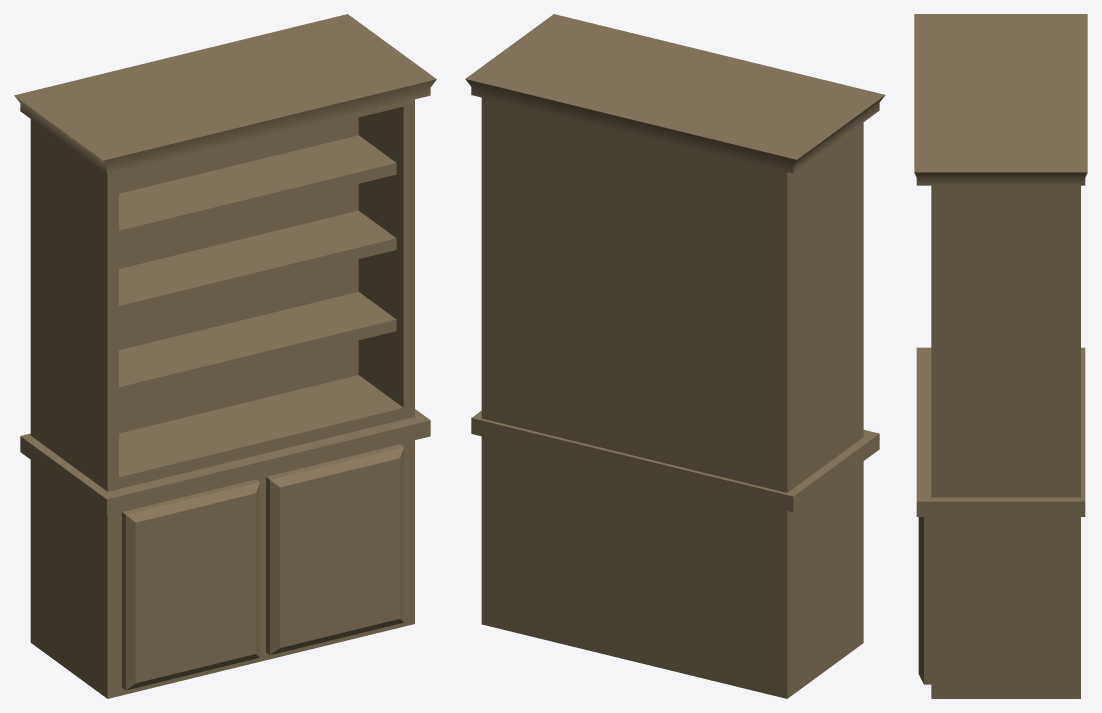
Rendered from msh_bookshelf.fbx.
3 views of the same model, side by side, from view 1: azimuth 30°, elevation 25°; view 2: azimuth 150°, elevation 25°; view 3: azimuth 270°, elevation 25° (orthographic). The views are drawn at different scales.
Visible parts, largest first — view 1: msh_bookshelf; view 2: msh_bookshelf; view 3: msh_bookshelf.
Part boxes in pixels (x1,y1,x2,y2): msh_bookshelf: (14,14,436,698); msh_bookshelf: (465,14,885,698); msh_bookshelf: (914,14,1087,698).
Size of the model in its own units: 193 by 303 by 89.37.
